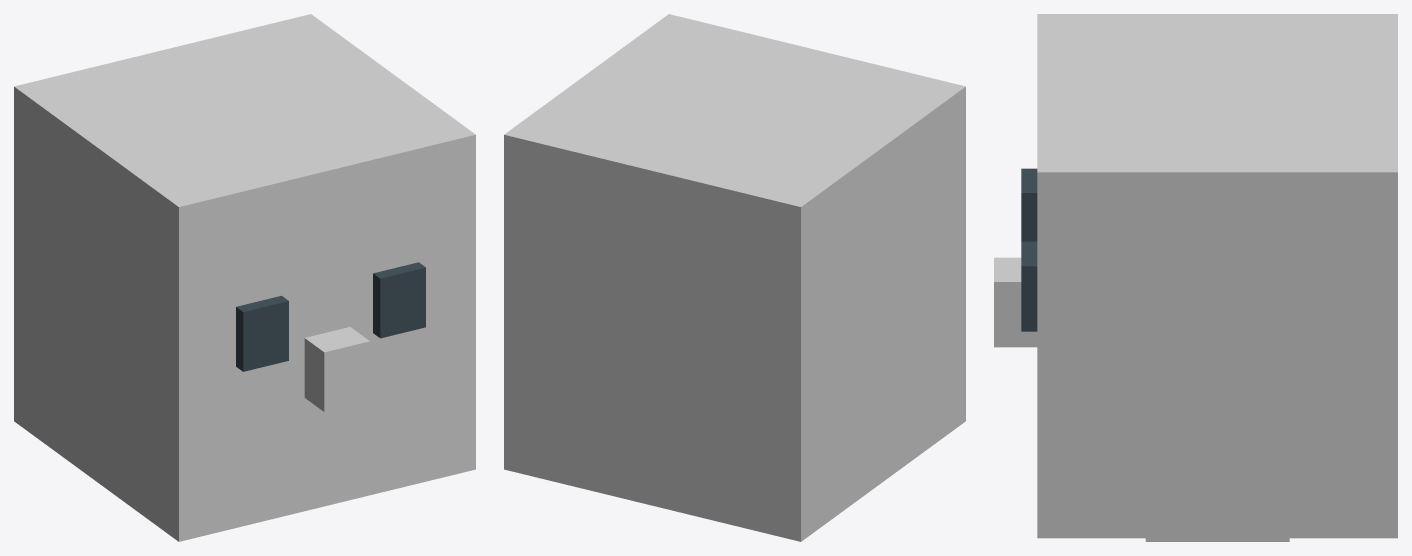
Rendered from CharHead.fbx.
The picture shows the model from 3 angles, left to right: view 1: azimuth 30°, elevation 25°; view 2: azimuth 150°, elevation 25°; view 3: azimuth 270°, elevation 25°; orthographic projection. The views are drawn at different scales.
Parts seen in each view (by area): view 1: CharHead; view 2: CharHead; view 3: CharHead.
Boxes of the visible parts, box(x1,y1,x2,y2) form: CharHead: box(14, 14, 475, 541); CharHead: box(504, 14, 965, 541); CharHead: box(994, 14, 1397, 541).
Size of the model in its own units: 0.26 by 0.32 by 0.28.
